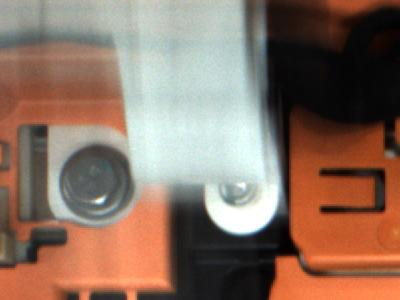nut_b: (59, 135, 146, 219)
